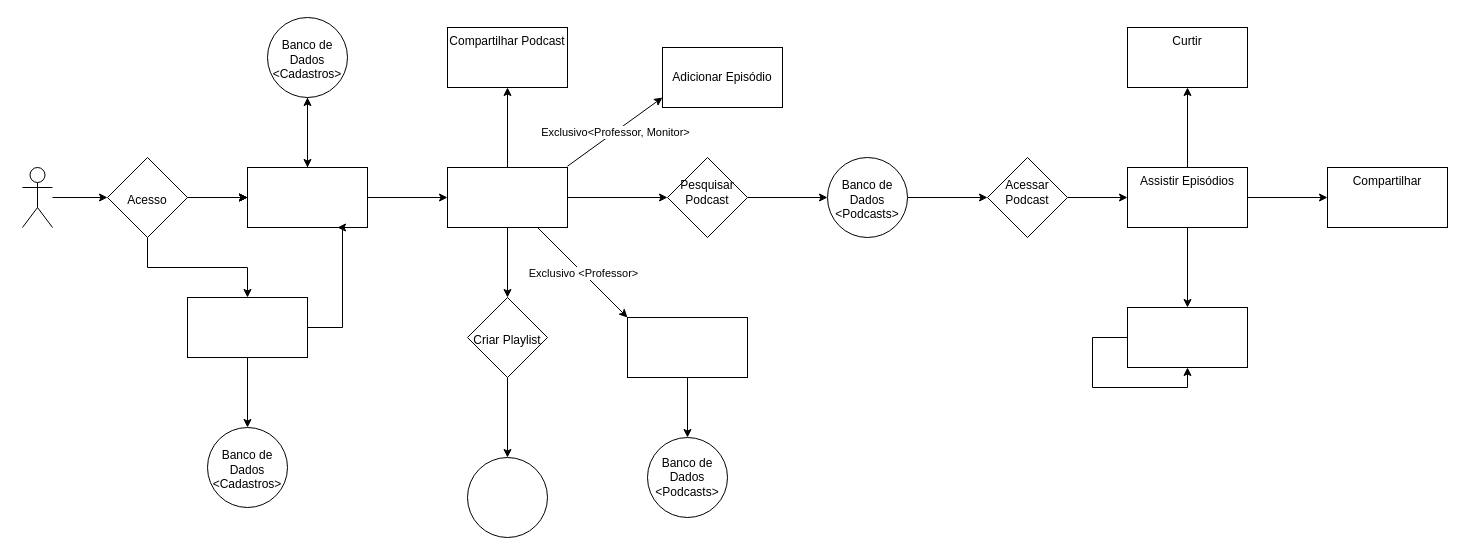
Image size: 1465x555. Some labels were removed from this diagram. Each missing label, with the box of its shape:
Banco de Dados <Playlist>: (466, 456, 548, 538)
Cadastro: (186, 296, 308, 358)
Comentar: (1126, 306, 1248, 368)
Criar Podcast: (626, 316, 748, 378)
Interface: (446, 166, 568, 228)
Login: (246, 166, 368, 228)
Usuãrio: (22, 166, 52, 228)
